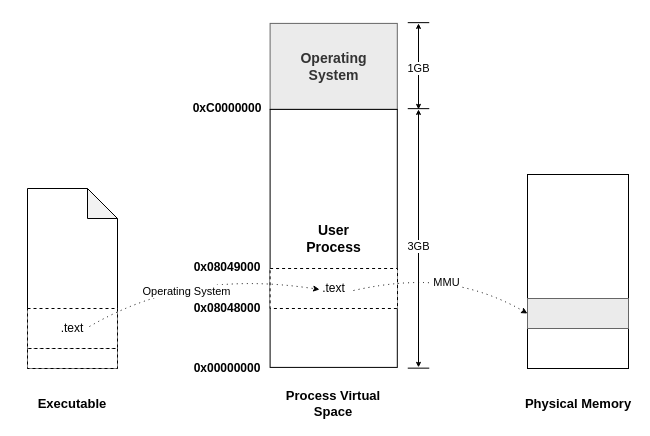
This 650x436 diagram has some shape labels left out. The centre of each missing label's shape, as x and y in pixels:
ELF Header: point 72,358
Page: point 577,313
